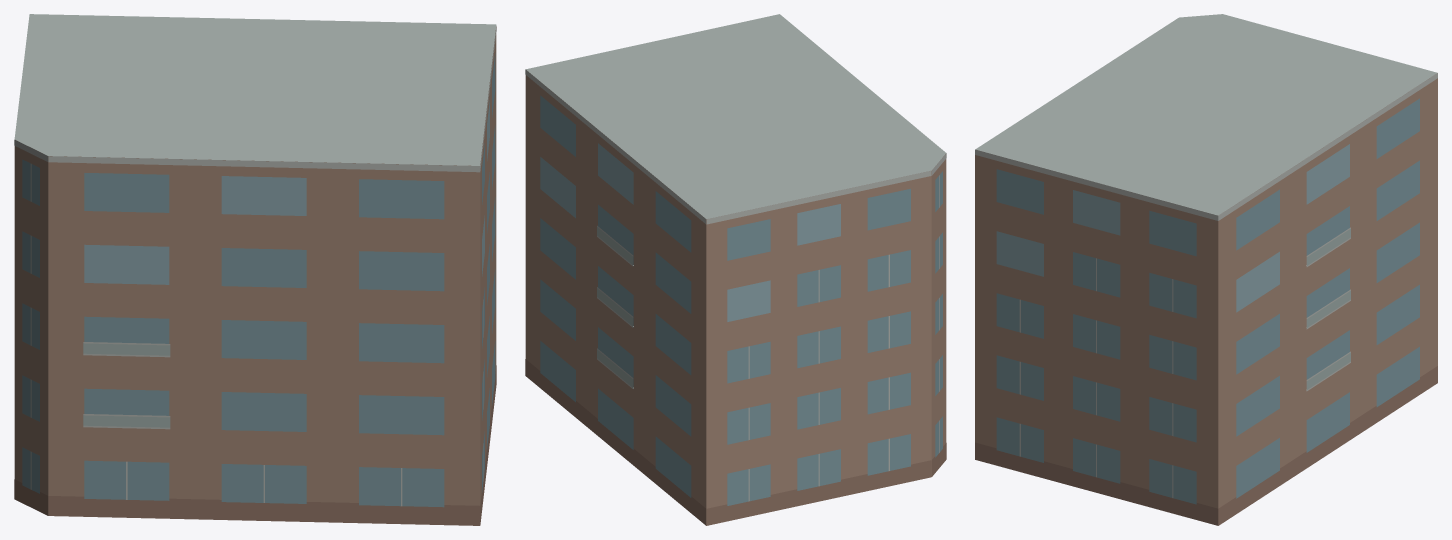
File: survey-upis-32851093.glb
3 renders of one model, left to right at view 1: azimuth 30°, elevation 25°; view 2: azimuth 150°, elevation 25°; view 3: azimuth 270°, elevation 25°, orthographic. The views are drawn at different scales.
Visible parts, largest first — view 1: survey-upis-32851093.tmp; view 2: survey-upis-32851093.tmp; view 3: survey-upis-32851093.tmp.
Part boxes in pixels (<box>): survey-upis-32851093.tmp: <box>14,14,496,525</box>; survey-upis-32851093.tmp: <box>525,14,946,525</box>; survey-upis-32851093.tmp: <box>975,14,1437,525</box>.
Size of the model in its own units: 19.59 by 14.05 by 19.
